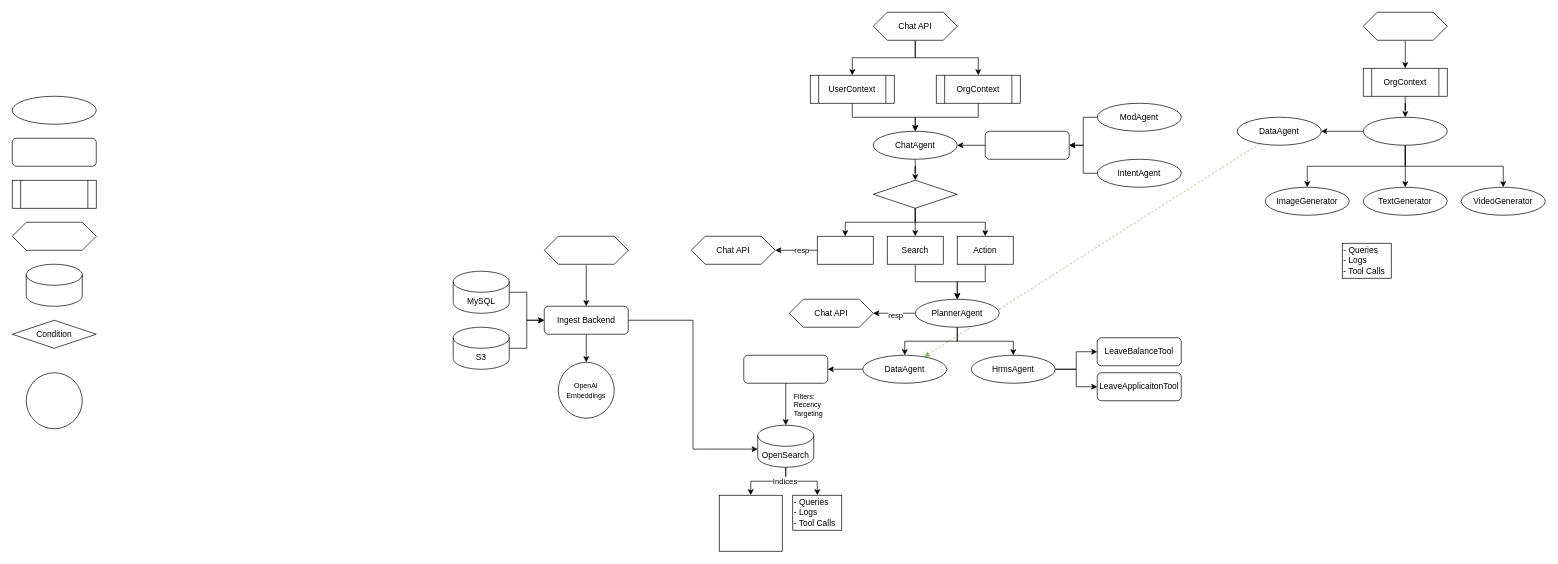
The diagram is 1558 pixels wide and 564 high, and some of its shapes have lost their labels. The shapes that lost their labels are listed below. From the top down, each one's centre as x and y in pixels, then its label:
At (x=1405, y=26): "ContentAPI".
At (x=54, y=110): "Agents".
At (x=1027, y=145): "AgentAsTool".
At (x=1405, y=131): "ContentPlanner".
At (x=54, y=152): "Tools".
At (x=54, y=194): "Context".
At (x=915, y=194): "Intent".
At (x=54, y=236): "API".
At (x=586, y=250): "IngestAPI".
At (x=845, y=250): "Greeting".
At (x=54, y=285): "DB".
At (x=785, y=369): "RetrievalTool".
At (x=54, y=400): "Services".
At (x=750, y=523): "- Socials - Policies - Documents - Web - Integrations".
